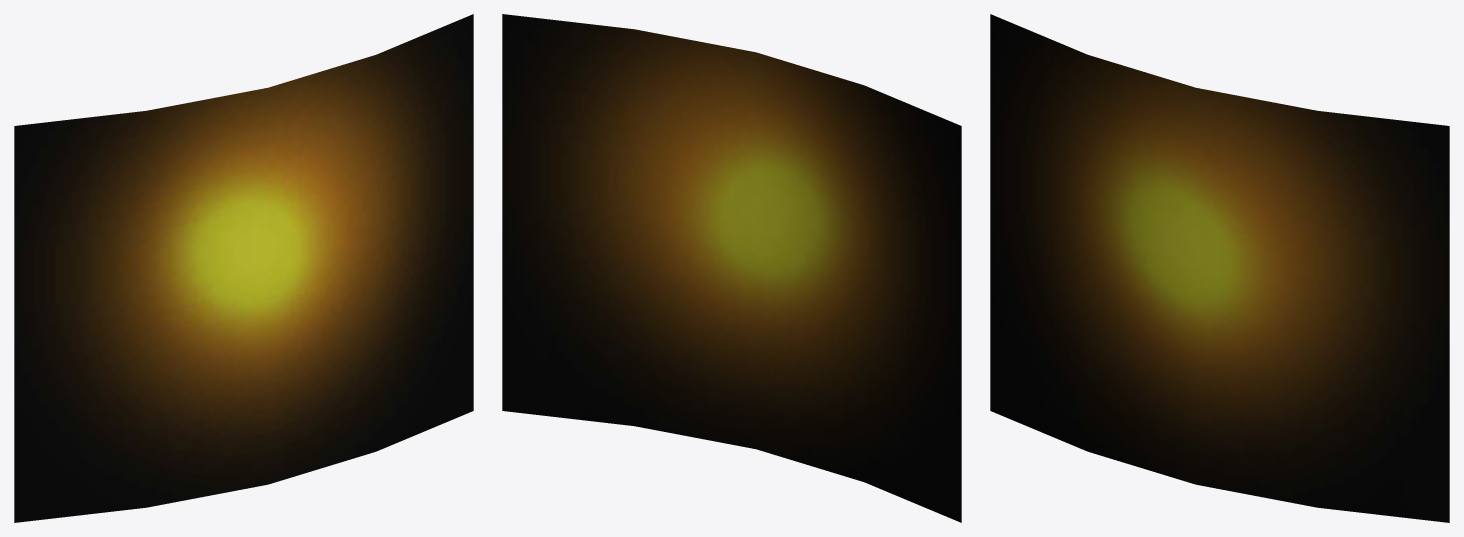
Rendered from 0071_HT_MiJing_Cao01.glb.
The picture shows the model from 3 angles, left to right: view 1: azimuth 30°, elevation 25°; view 2: azimuth 150°, elevation 25°; view 3: azimuth 330°, elevation 25°; orthographic projection.
Bounding box in the file's own units: 2.2 × 1.82 × 0.2005.
Materials: 1 (1 with a texture image).
